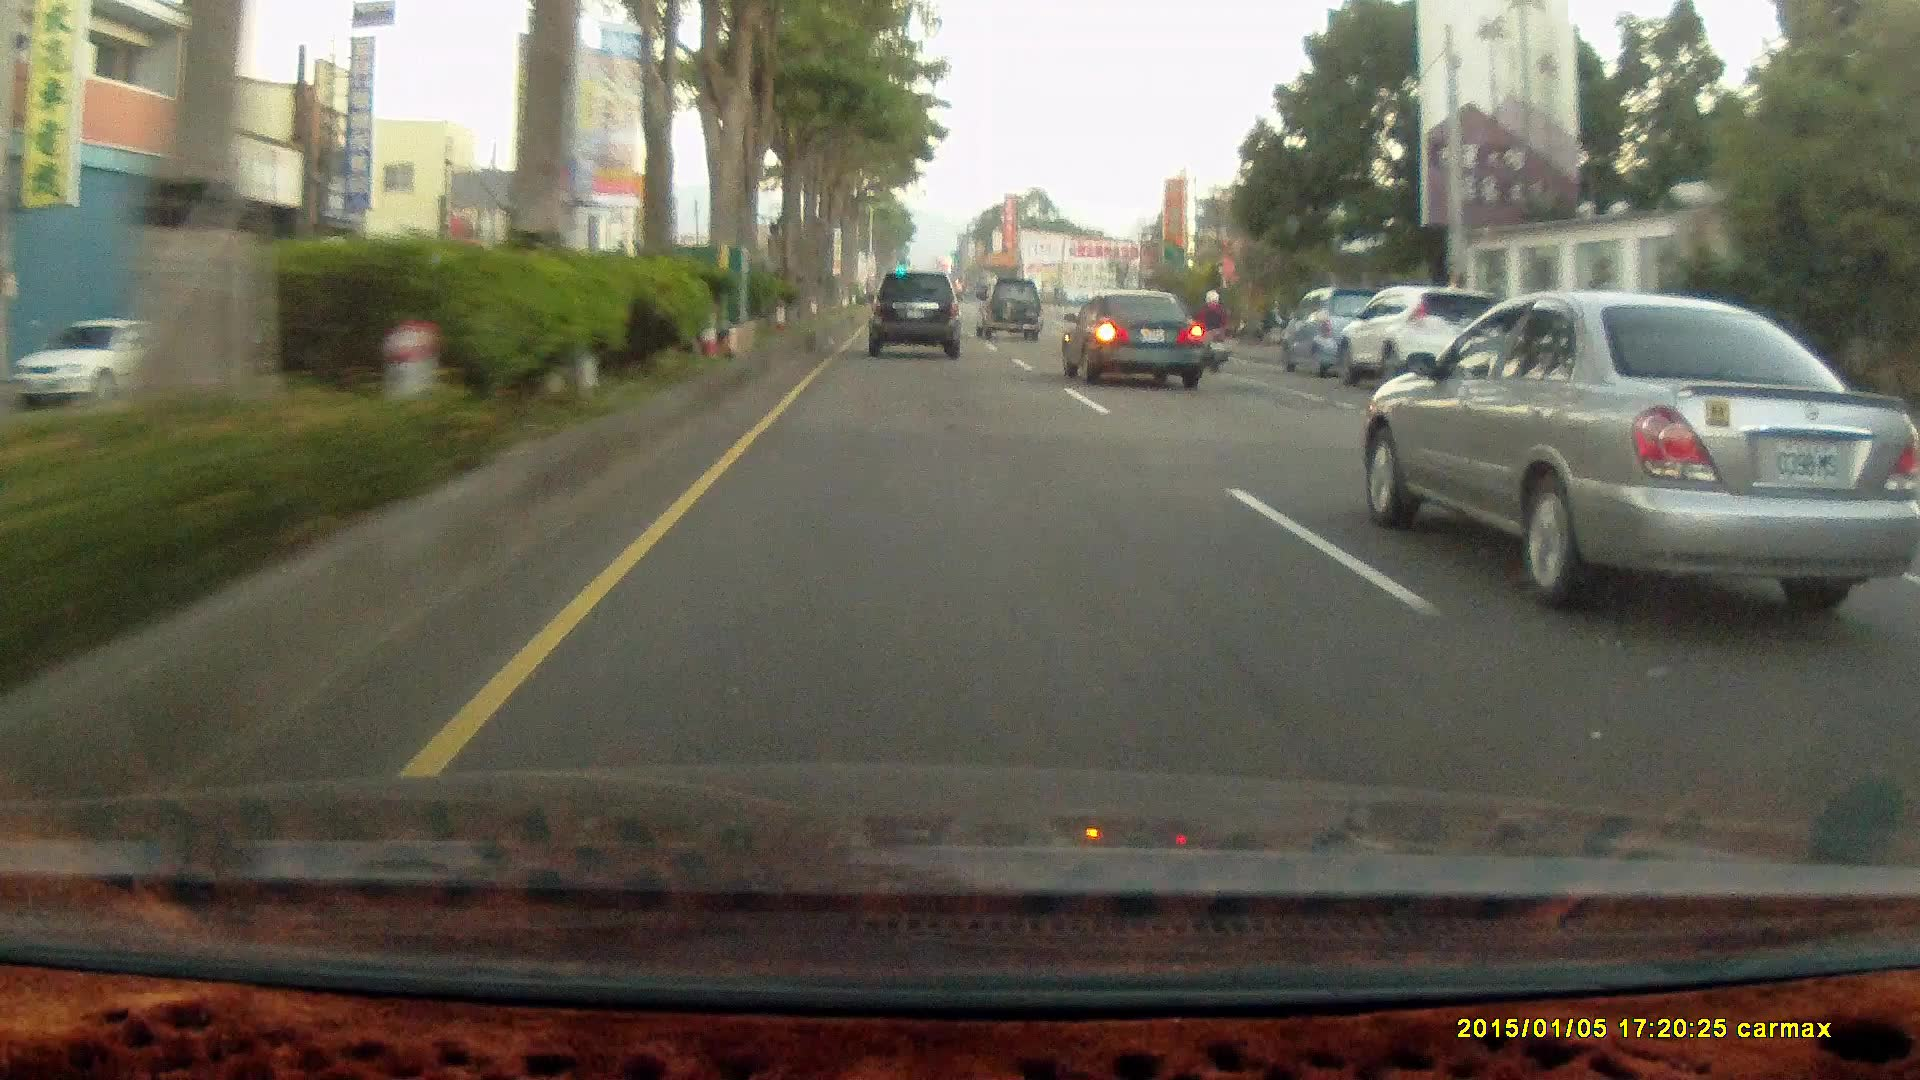rider: (1191, 288, 1231, 372), (1193, 294, 1232, 379)
vehicle: (1363, 299, 1913, 607), (1334, 283, 1513, 390), (8, 317, 195, 406), (7, 317, 193, 406), (1059, 290, 1204, 389), (1063, 294, 1209, 389), (1280, 286, 1405, 377), (864, 271, 967, 366), (865, 270, 962, 357), (974, 279, 1045, 344), (974, 279, 1042, 342)
